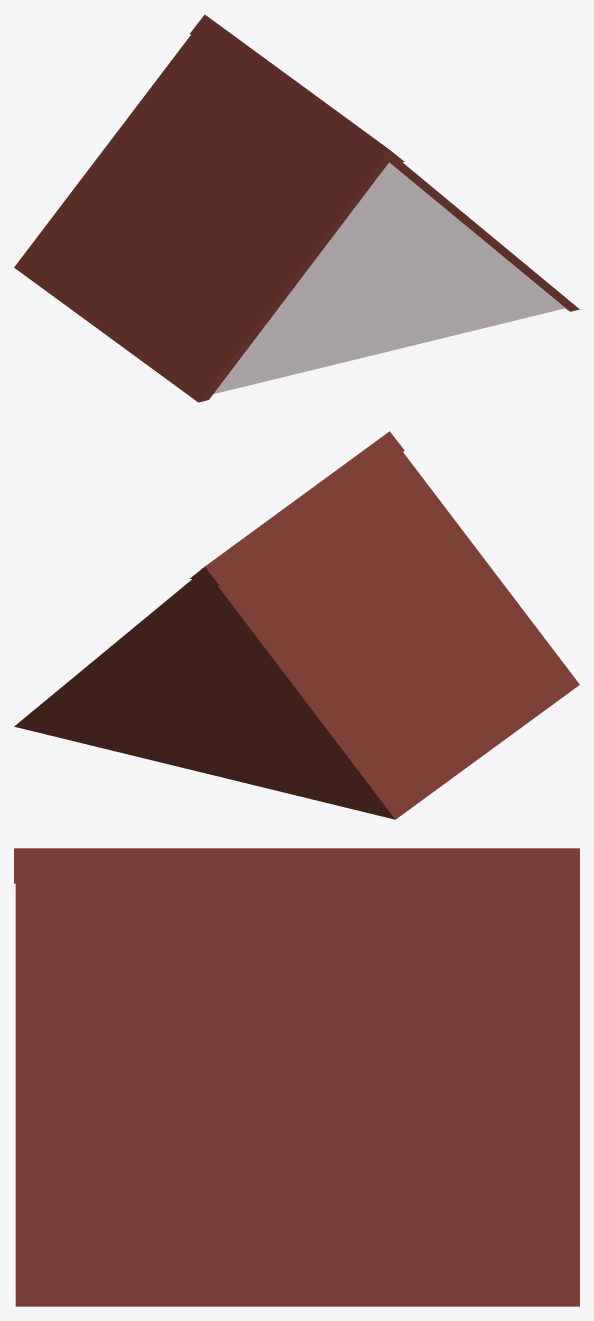
The model's file is dormer.glb.
3 views of the same model, one above another, from view 1: azimuth 30°, elevation 25°; view 2: azimuth 150°, elevation 25°; view 3: azimuth 270°, elevation 25° (orthographic). The views are drawn at different scales.
Visible parts, largest first — view 1: roof, roof.001, ridge; view 2: roof, ridge; view 3: roof, ridge.
Boxes of the visible parts, x1,y1,x2,y2 form: roof: [14, 35, 579, 402]; roof.001: [213, 163, 564, 393]; ridge: [190, 14, 404, 168]; roof: [14, 452, 579, 819]; ridge: [190, 431, 404, 585]; roof: [15, 883, 579, 1306]; ridge: [14, 848, 579, 883].
Bounding box in the file's own units: 4.3 × 2.23 × 3.61.
